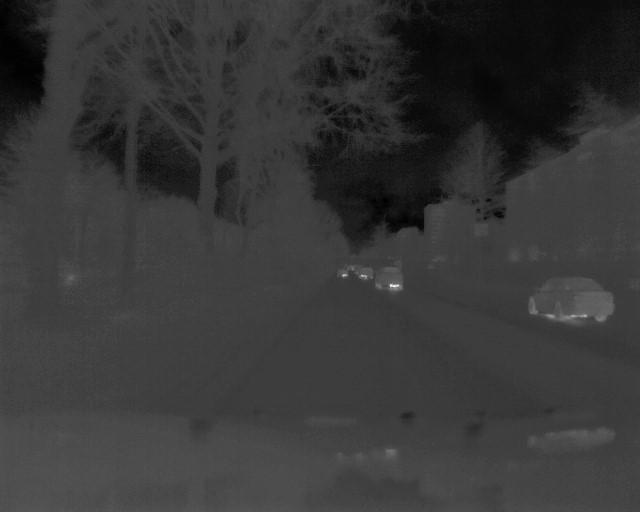car: (522, 274, 614, 328), (372, 266, 409, 293)
